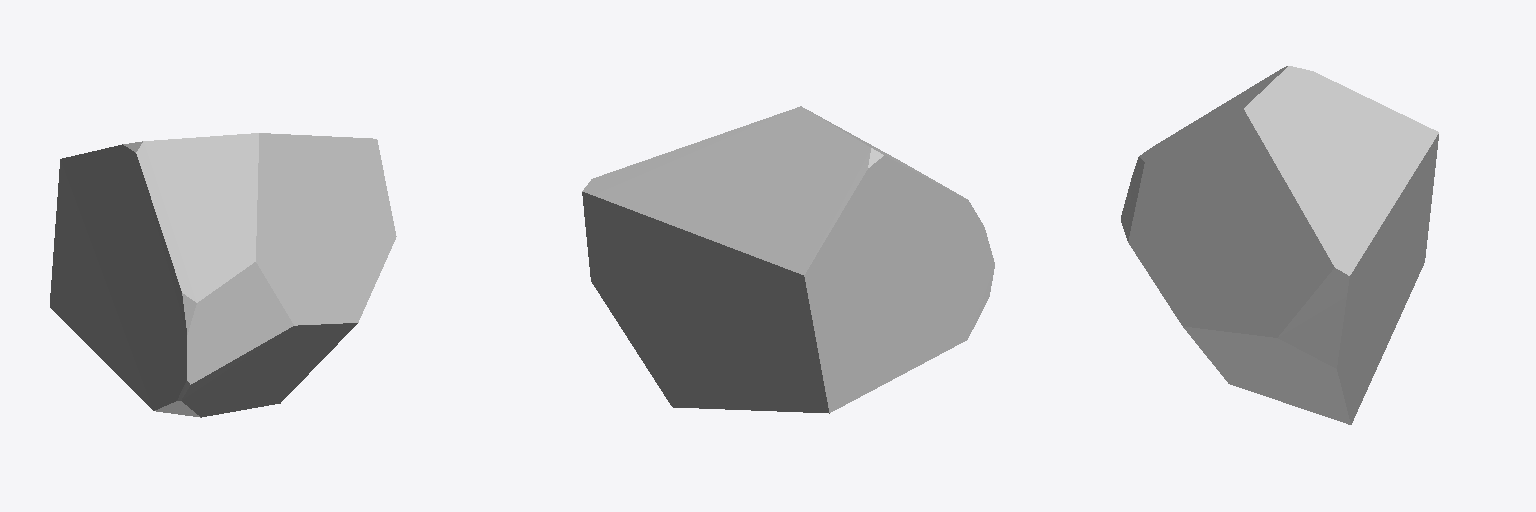
Rendered from Crystal5.obj.
3 views of the same model, side by side, from view 1: azimuth 30°, elevation 25°; view 2: azimuth 150°, elevation 25°; view 3: azimuth 270°, elevation 25° (orthographic).
Visible parts, largest first — view 1: node_id4_mesh_id5; view 2: node_id4_mesh_id5; view 3: node_id4_mesh_id5.
Boxes of the visible parts, <box> form: node_id4_mesh_id5: <box>50,133,396,417</box>; node_id4_mesh_id5: <box>582,106,994,413</box>; node_id4_mesh_id5: <box>1121,66,1438,424</box>.
Bounding box in the file's own units: 0.8765 × 0.7769 × 0.8016.